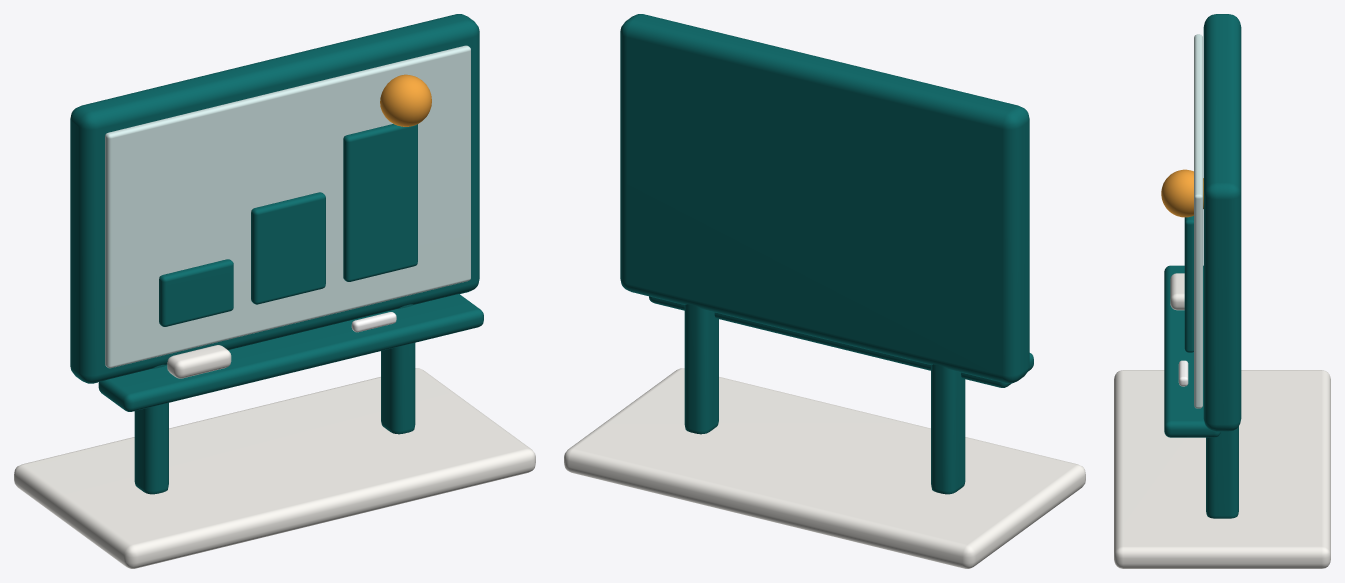
The model's file is learning-board.glb.
The picture shows the model from 3 angles, left to right: view 1: azimuth 30°, elevation 25°; view 2: azimuth 150°, elevation 25°; view 3: azimuth 270°, elevation 25°; orthographic projection. The views are drawn at different scales.
Parts seen in each view (by area): view 1: screen, stand_base, frame, tray, learning_step_2, learning_step_1, learning_step_0, leg_1, leg_0, moment_of_understanding, eraser; view 2: frame, stand_base, leg_1, leg_0, tray; view 3: stand_base, frame, tray, screen, leg_1, moment_of_understanding, learning_step_2, eraser.
Boxes of the visible parts, x1,y1,x2,y2 form: screen: (105,45,470,368); stand_base: (14,368,535,568); frame: (70,14,479,383); tray: (98,294,483,411); learning_step_2: (343,124,417,281); learning_step_1: (251,192,325,304); learning_step_0: (159,259,233,326); leg_1: (381,304,415,434); leg_0: (134,364,168,494); moment_of_understanding: (380,74,431,126); eraser: (167,345,231,378); frame: (620,14,1029,383); stand_base: (564,368,1085,568); leg_1: (684,304,718,434); leg_0: (931,364,965,494); tray: (649,296,1033,387); stand_base: (1114,370,1330,568); frame: (1203,14,1241,431); tray: (1164,265,1220,437); screen: (1194,34,1202,408); leg_1: (1206,426,1238,518); moment_of_understanding: (1161,169,1203,217); learning_step_2: (1184,216,1193,352); eraser: (1170,273,1184,310).
Size of the model in its own units: 2.9 by 2.82 by 1.45.
